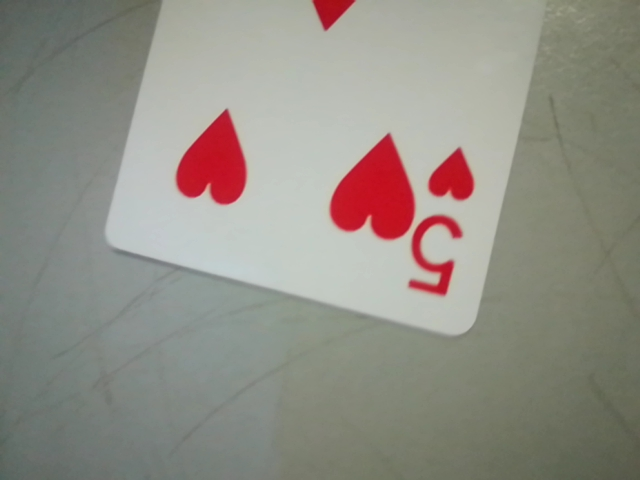hx 5: (404, 134, 483, 313)
